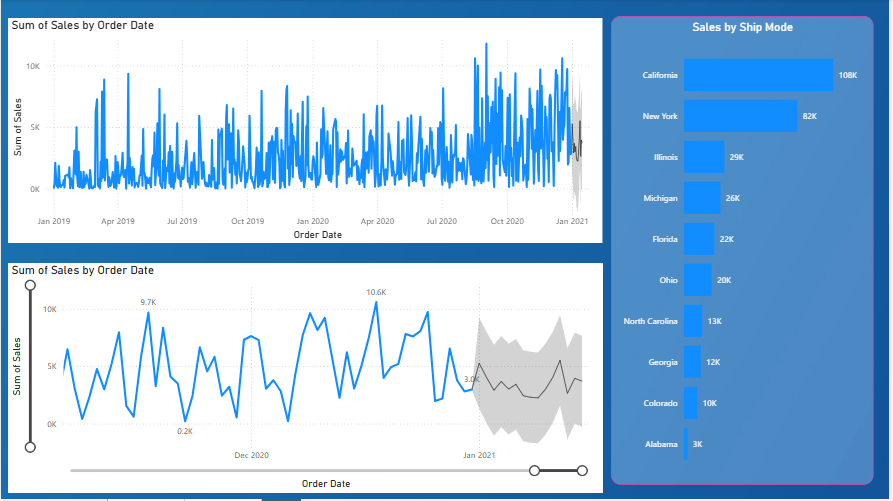

The dashboard page shown, as its layout file describes it:
{"tool":"powerbi","page":{"name":"Page 2","canvas":[1280,720],"ordinal":1},"visuals":[{"type":"lineChart","fields":{"Y":["Sum(SuperStore_Sales_Dataset.Sales)"],"Category":["SuperStore_Sales_Dataset.Order Date"]},"box":[10,27.1,855.7,324.3],"z":0},{"type":"lineChart","fields":{"Y":["Sum(SuperStore_Sales_Dataset.Sales)"],"Category":["SuperStore_Sales_Dataset.Order Date"]},"box":[10,380,855.7,331.4],"z":1000},{"type":"clusteredBarChart","title":"Sales by Ship Mode","fields":{"Category":["SuperStore_Sales_Dataset.State"],"Y":["Sum(SuperStore_Sales_Dataset.Sales)"]},"box":[878,24.9,377.6,674.6],"z":2000}]}

Visuals, with their boxes in screenshot pixels (x1, y1, x2, y2), scaled from the page's 1280x720 canvas onto the 893x501 screenshot:
lineChart - Sum(SuperStore_Sales_Dataset.Sales) x SuperStore_Sales_Dataset.Order Date: crop(7, 19, 604, 245)
lineChart - Sum(SuperStore_Sales_Dataset.Sales) x SuperStore_Sales_Dataset.Order Date: crop(7, 264, 604, 495)
"Sales by Ship Mode" clusteredBarChart: crop(613, 17, 876, 487)
